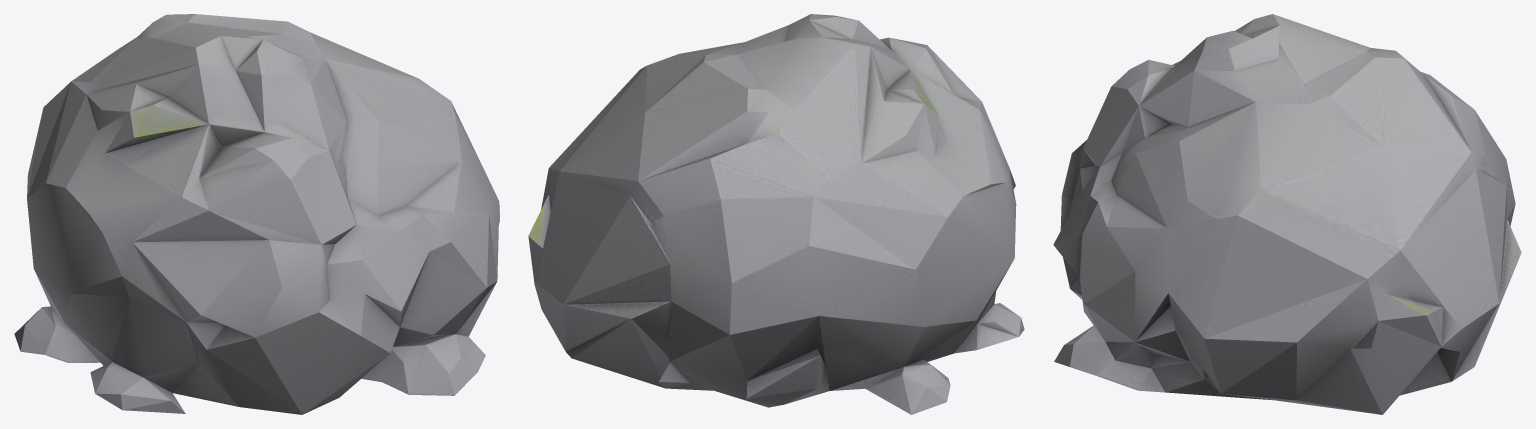
Rendered from w_fels.glb.
3 renders of one model, left to right at view 1: azimuth 30°, elevation 25°; view 2: azimuth 150°, elevation 25°; view 3: azimuth 270°, elevation 25°, orthographic. The views are drawn at different scales.
Bounding box in the file's own units: 1.87 × 1.28 × 1.88.
1 material, 1 textured.
